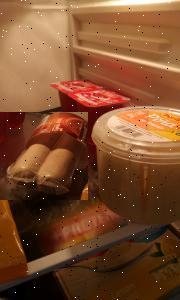Salchichas: (0, 112, 88, 200)
